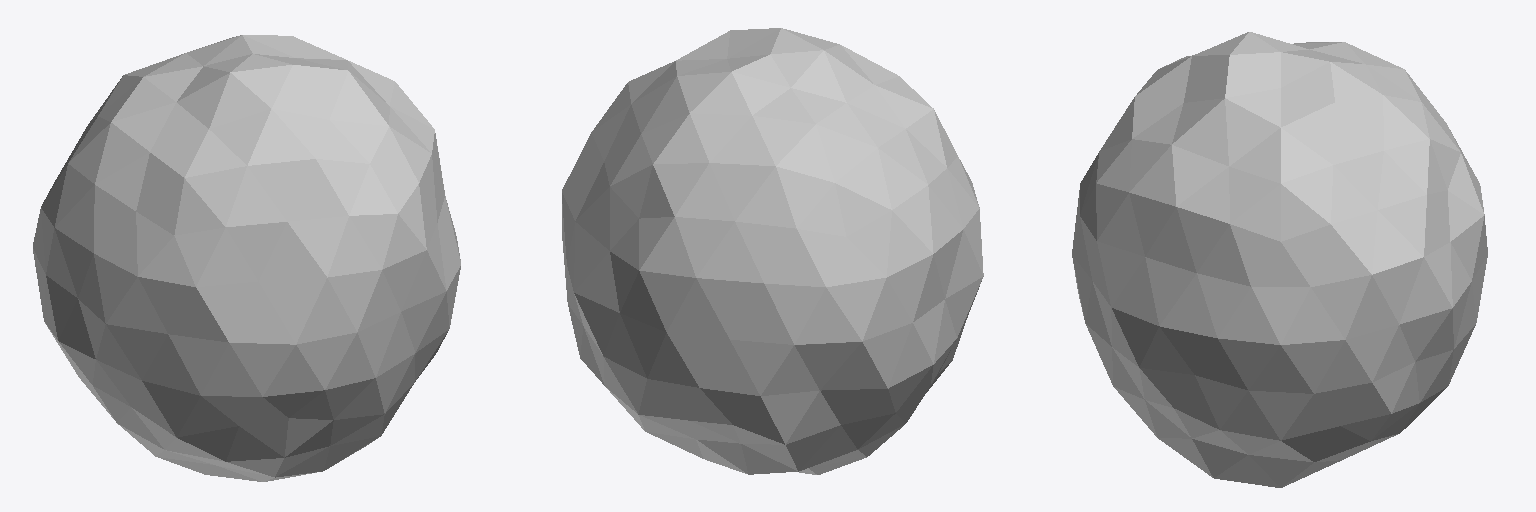
Rendered from asteroid_5.obj.
3 views of the same model, side by side, from view 1: azimuth 30°, elevation 25°; view 2: azimuth 150°, elevation 25°; view 3: azimuth 270°, elevation 25° (orthographic).
Parts seen in each view (by area): view 1: Asteroid_5; view 2: Asteroid_5; view 3: Asteroid_5.
Part boxes in pixels (x1,y1,x2,y2): Asteroid_5: (33,35,460,481); Asteroid_5: (562,28,983,474); Asteroid_5: (1072,32,1487,487).
Bounding box in the file's own units: 1.84 × 1.98 × 1.8.